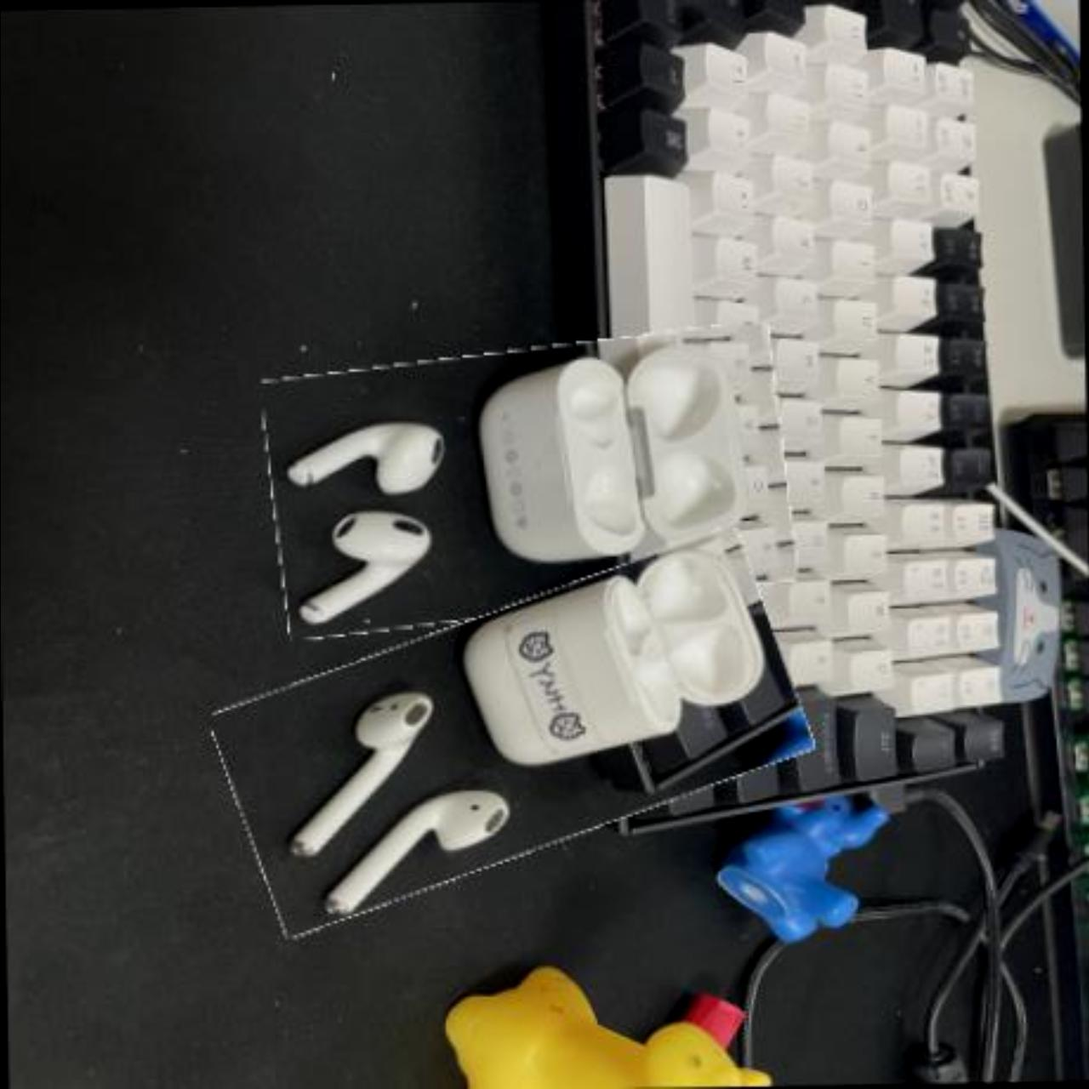AirPods: (217, 564, 806, 895), (264, 332, 794, 626)
